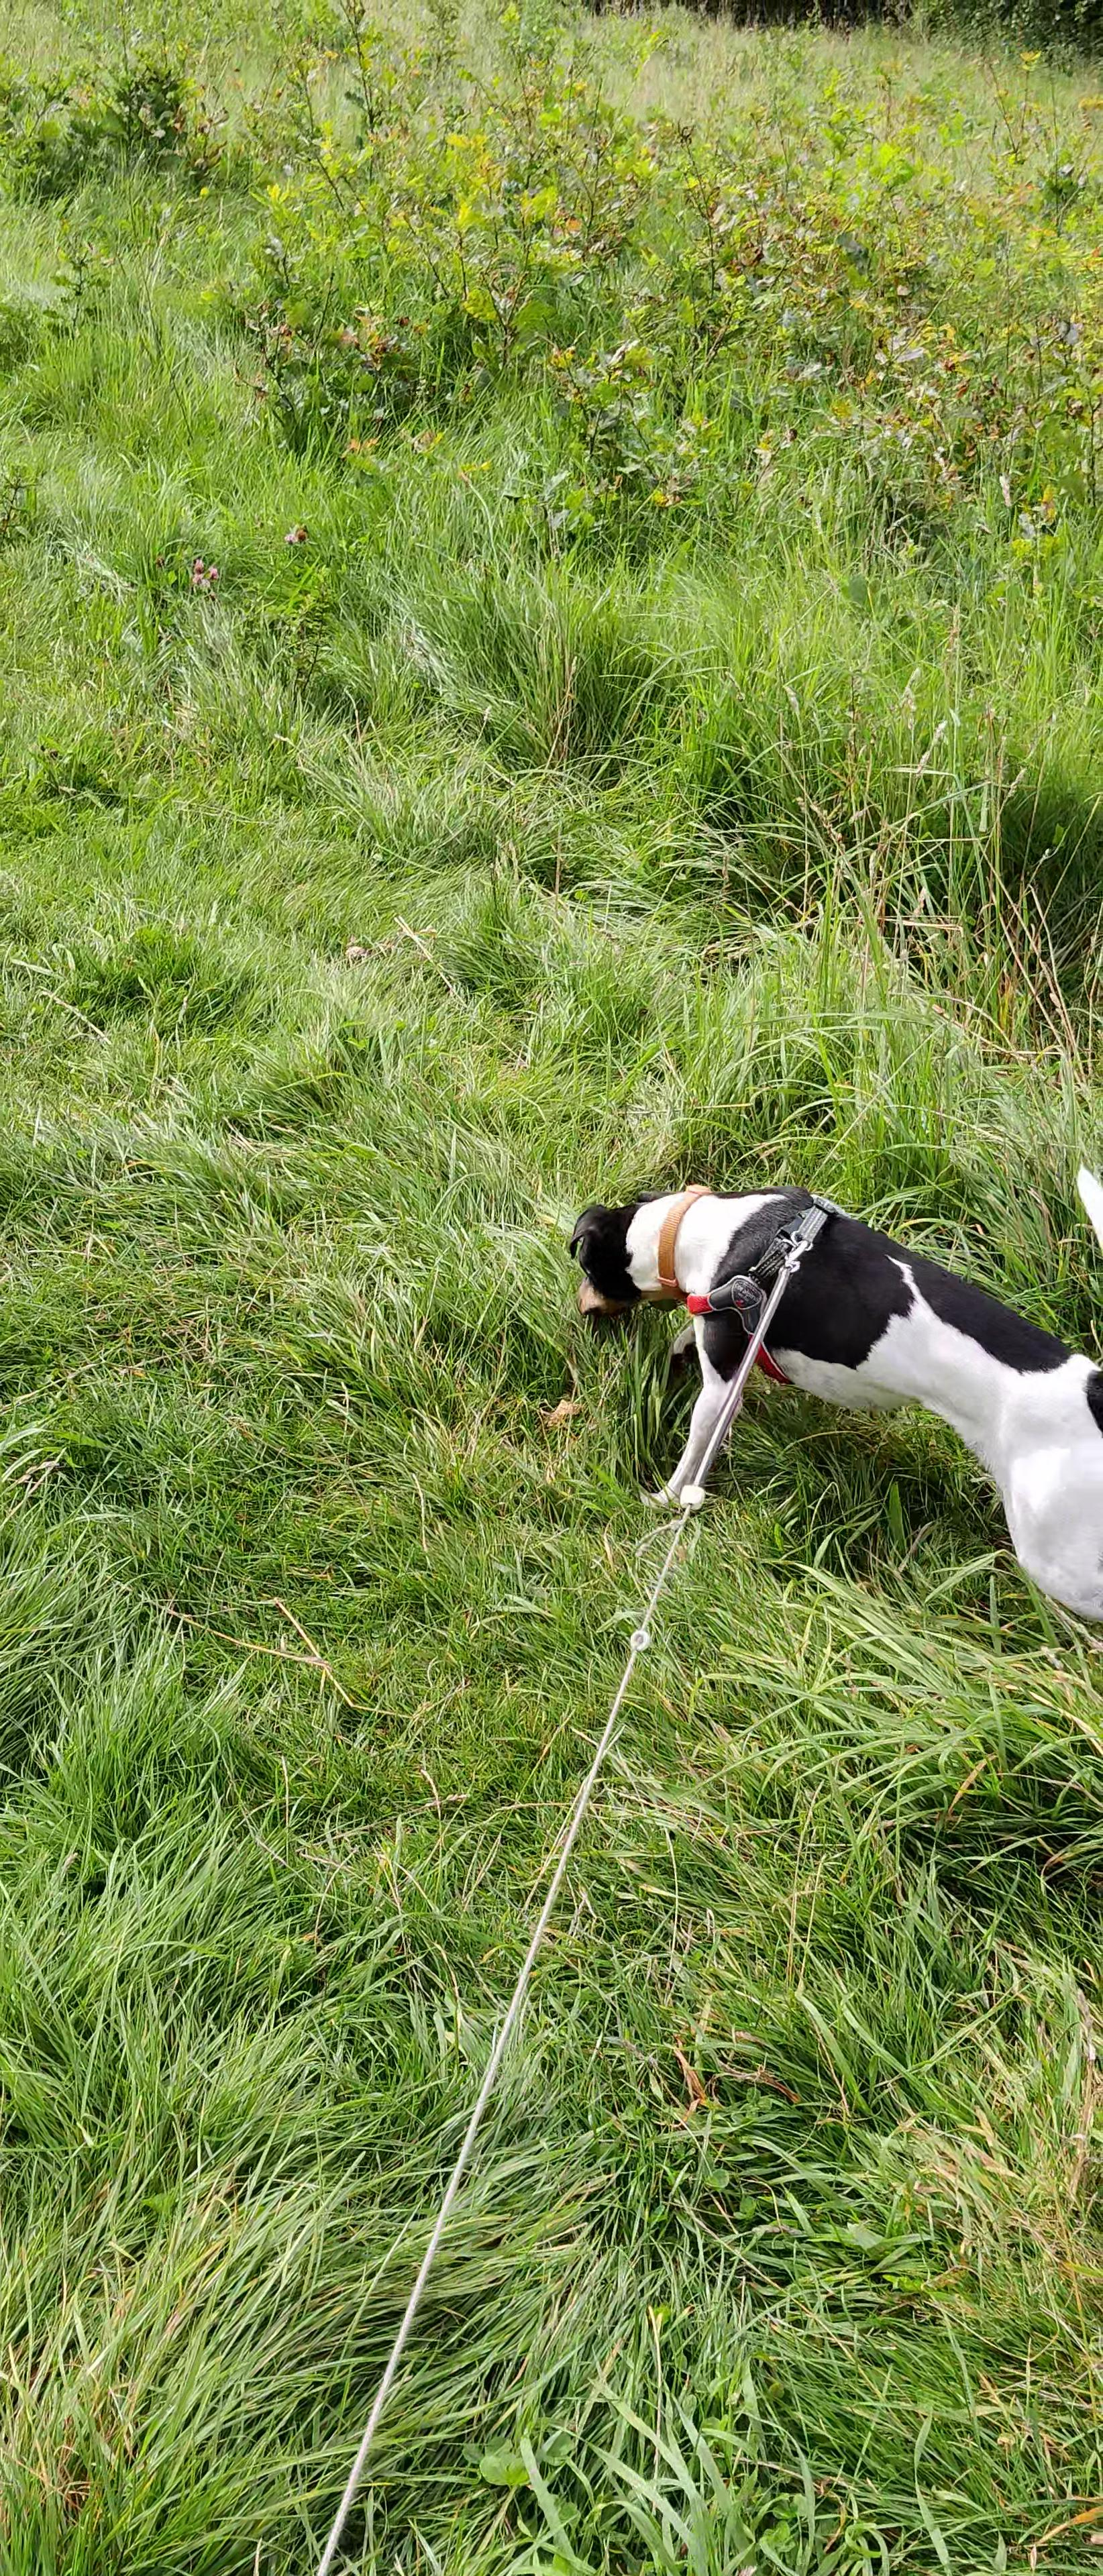Dog: (539, 1106, 1103, 1686)
